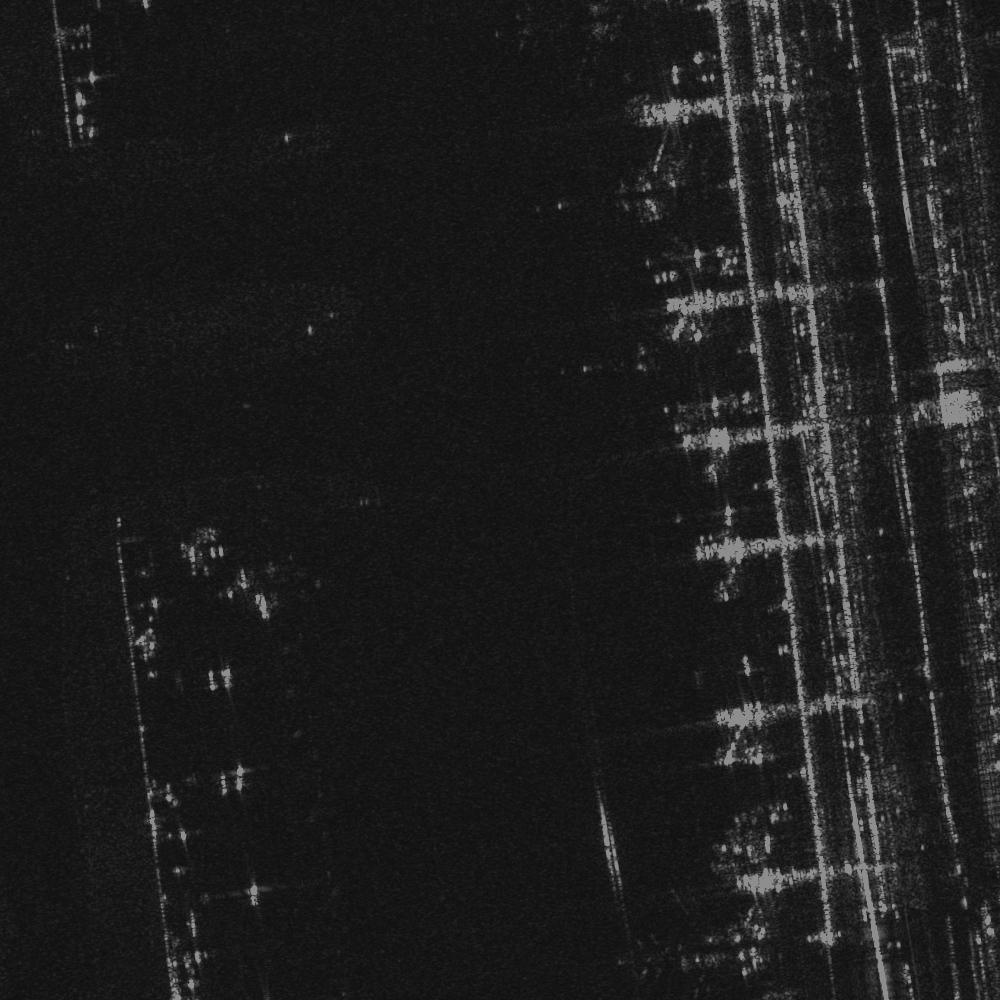A330: (618, 894, 733, 999)
